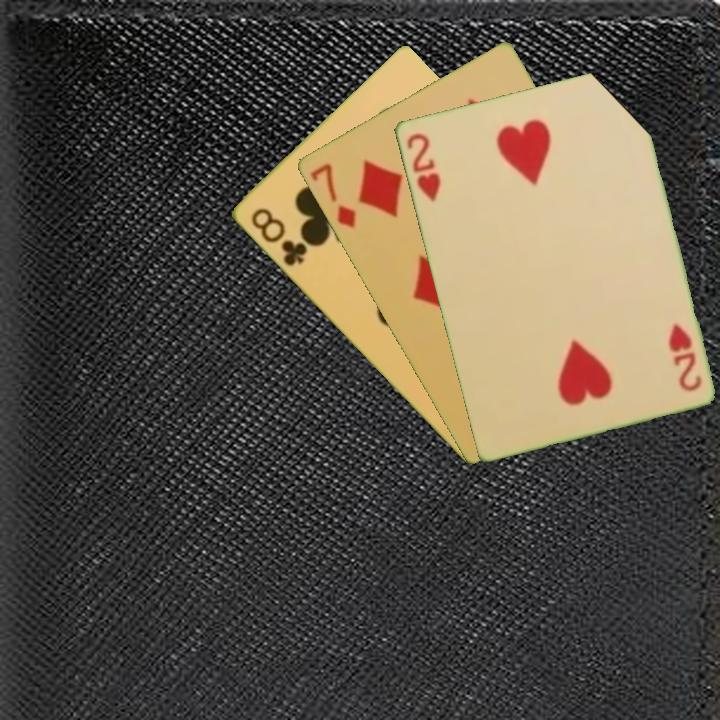2h: (402, 129, 443, 204), (664, 319, 704, 394)
7d: (306, 159, 359, 231)
8c: (247, 204, 310, 269)
